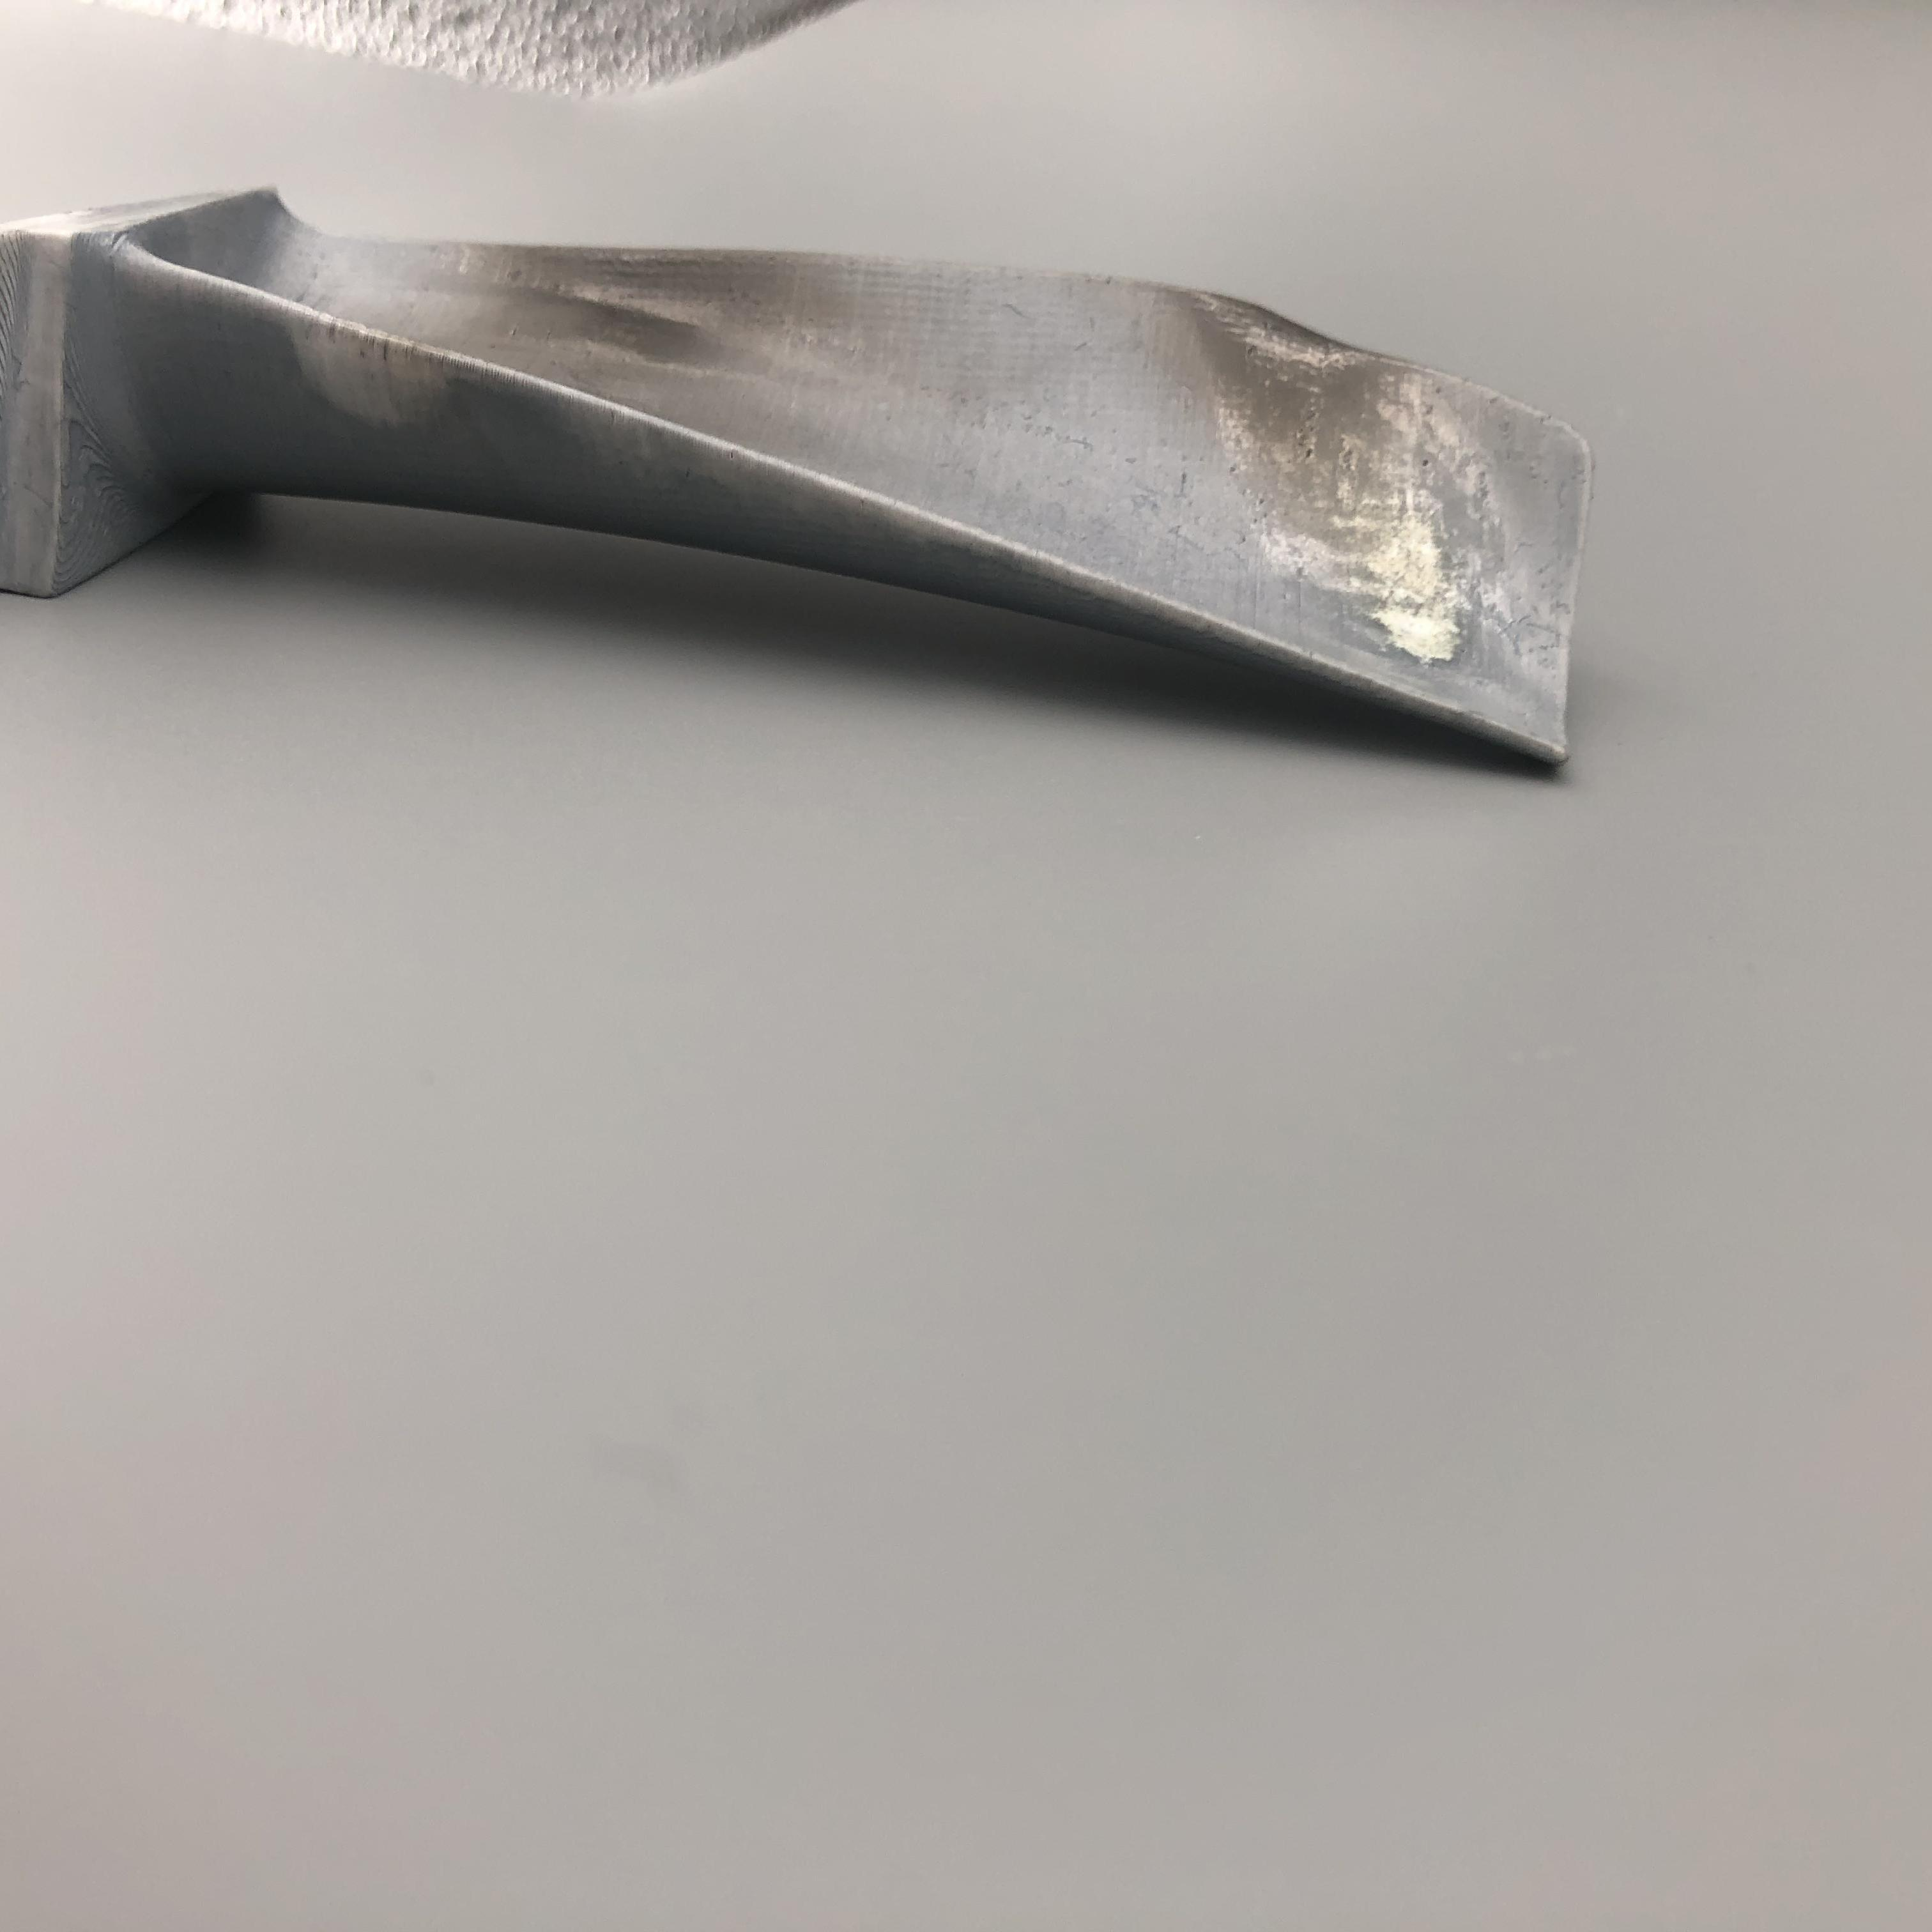ablation: (1189, 304, 1484, 656), (456, 251, 856, 446)
